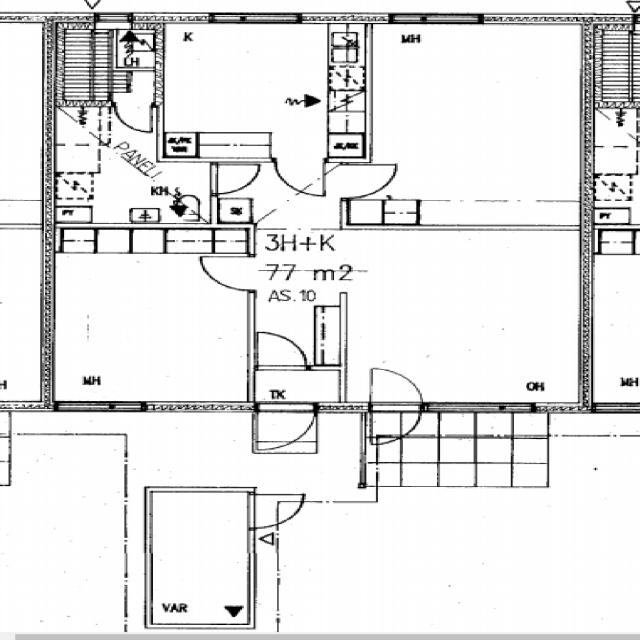door: (257, 401, 314, 451), (369, 364, 422, 412), (369, 401, 422, 449), (200, 256, 254, 290), (339, 164, 394, 197), (248, 494, 303, 527), (258, 333, 306, 370), (276, 157, 322, 193), (210, 164, 258, 192), (115, 100, 151, 132)
